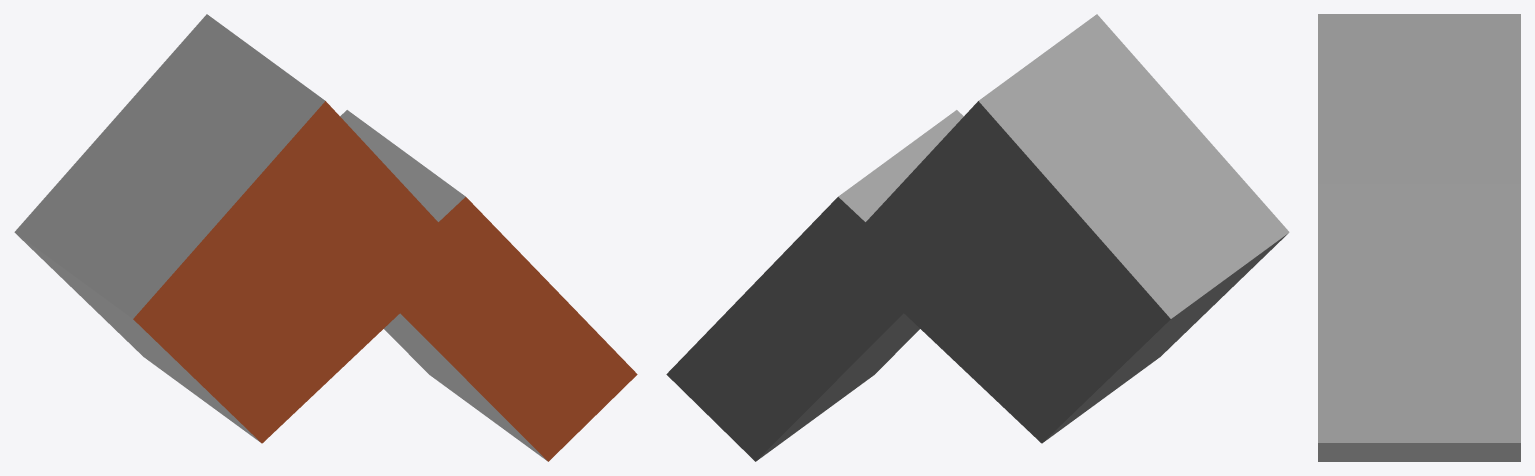
The model's file is construction_1311_assumed_A_Casa_h6m.obj.
3 views of the same model, side by side, from view 1: azimuth 30°, elevation 25°; view 2: azimuth 150°, elevation 25°; view 3: azimuth 270°, elevation 25° (orthographic). The views are drawn at different scales.
Visible parts, largest first — view 1: construction_1311_assumed_A_Casa; view 2: construction_1311_assumed_A_Casa; view 3: construction_1311_assumed_A_Casa.
Boxes of the visible parts, x1,y1,x2,y2 form: construction_1311_assumed_A_Casa: [14, 14, 637, 461]; construction_1311_assumed_A_Casa: [666, 14, 1289, 461]; construction_1311_assumed_A_Casa: [1318, 14, 1520, 461].
Bounding box in the file's own units: 14.73 × 11.58 × 6.
